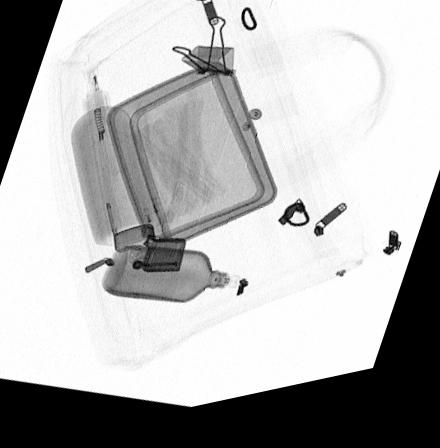Lighter: (114, 229, 187, 278)
